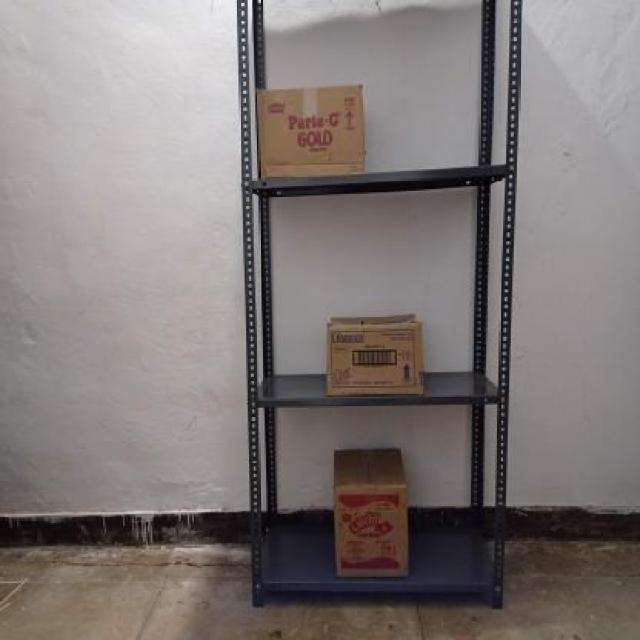box: (256, 86, 370, 179), (324, 322, 427, 398), (332, 482, 410, 580)
